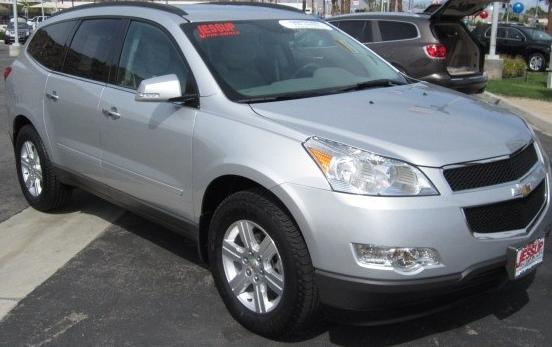front_view: (300, 117, 552, 312)
headlight: (295, 128, 447, 211)
side_glass: (23, 14, 198, 113)
